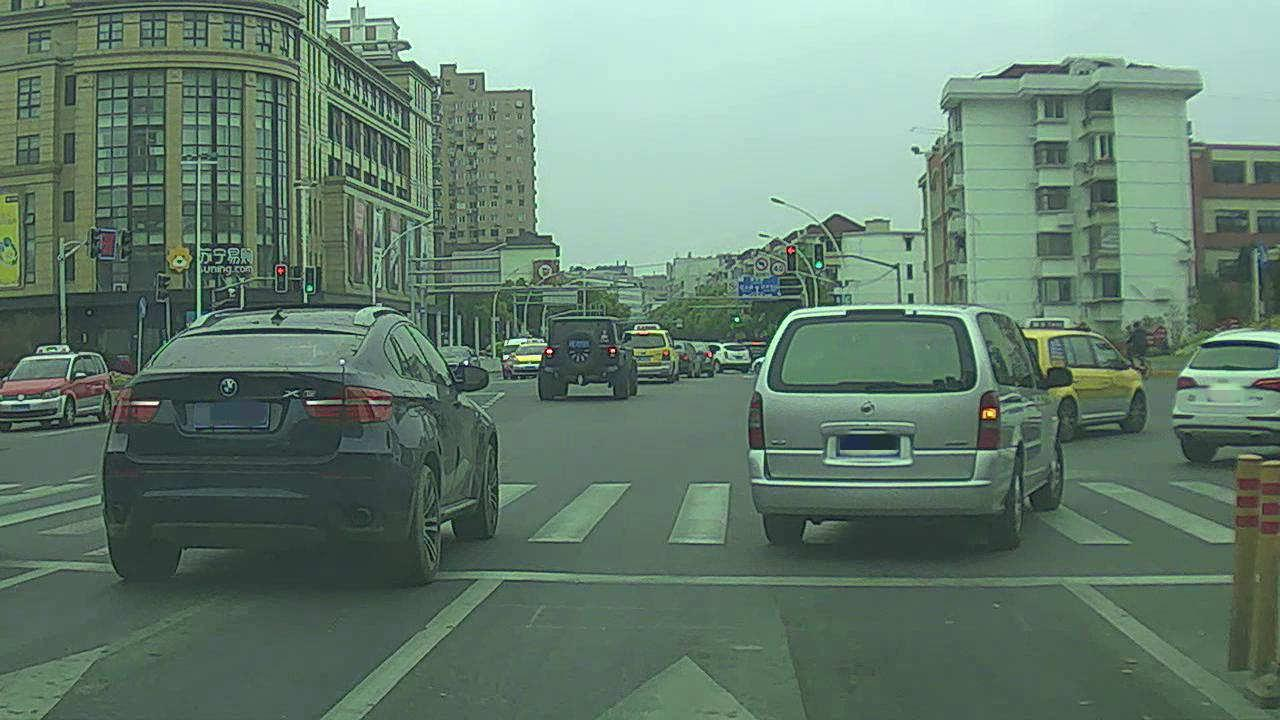traffic_light: (275, 262, 290, 294), (785, 243, 799, 271), (305, 266, 318, 294), (813, 243, 826, 270)
